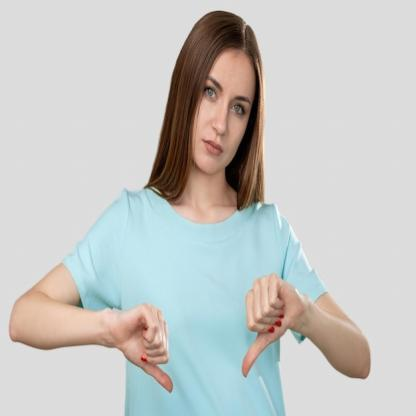thumb_down: (240, 272, 302, 380), (118, 300, 176, 396)
